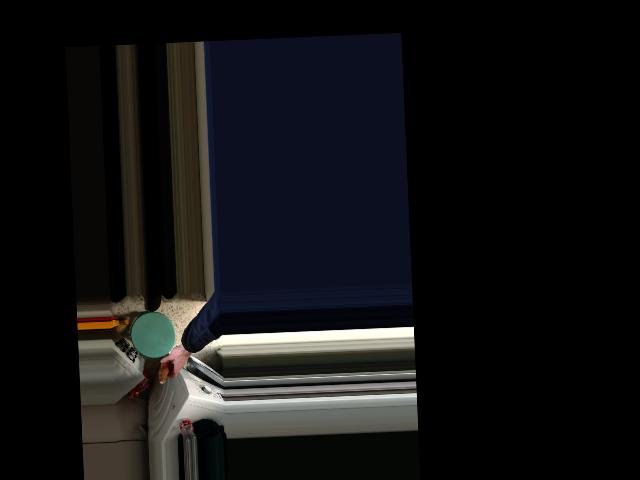sweet_potato: (157, 346, 179, 383)
